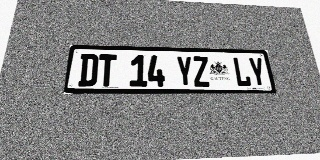1: (130, 55, 147, 87)
4: (148, 55, 165, 87)
D: (78, 54, 99, 86)
L: (232, 57, 252, 87)
T: (97, 54, 117, 87)
Y: (247, 57, 268, 87), (176, 56, 194, 87)
Z: (192, 56, 211, 87)
